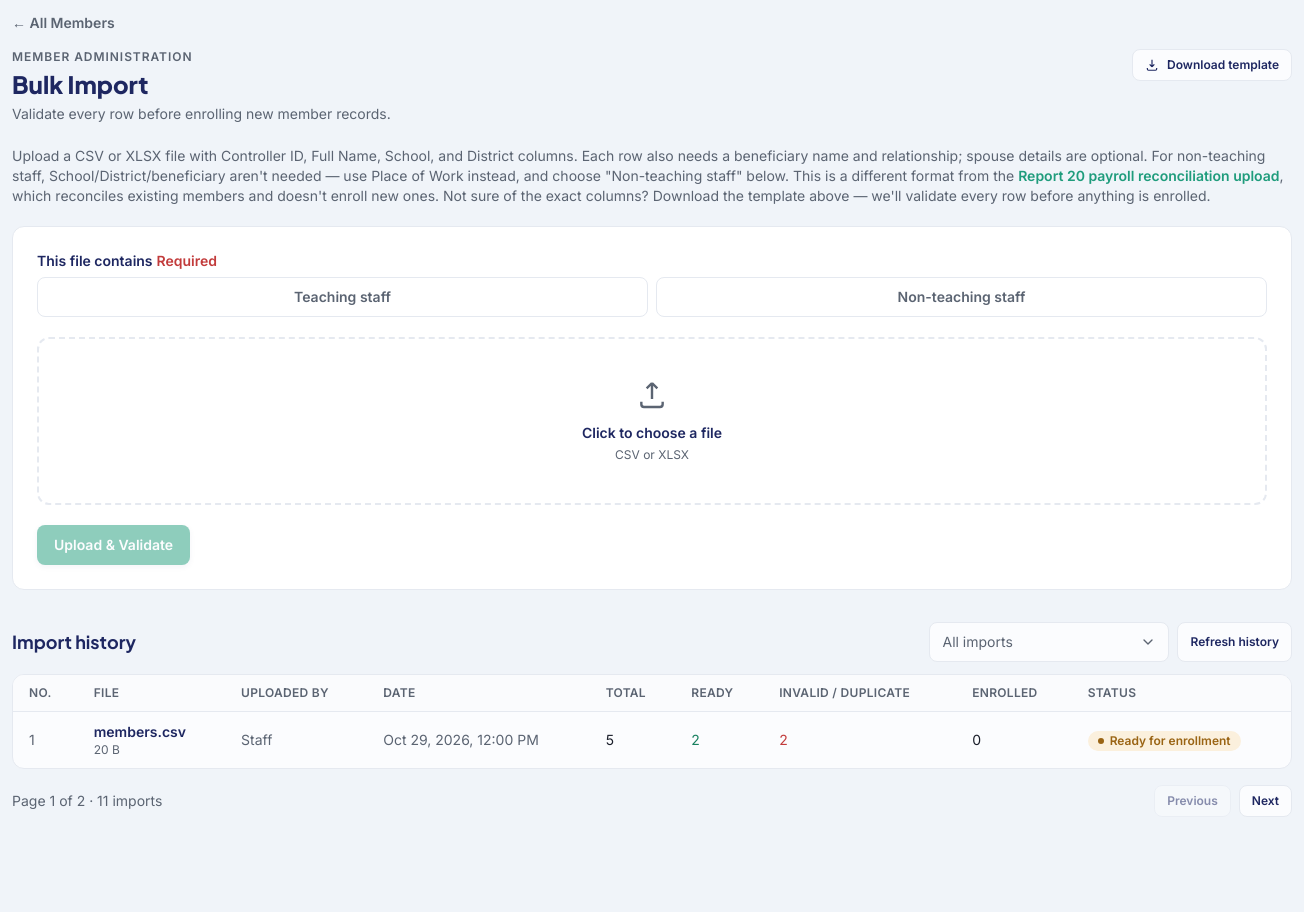
it: paginates history on the server and numbers rows across pages
Check: the text "Page 1 of 2 · 11 imports" is shown, box [12, 791, 162, 811]
Click the button "Next": (1265, 801) [1239, 785, 1292, 817]
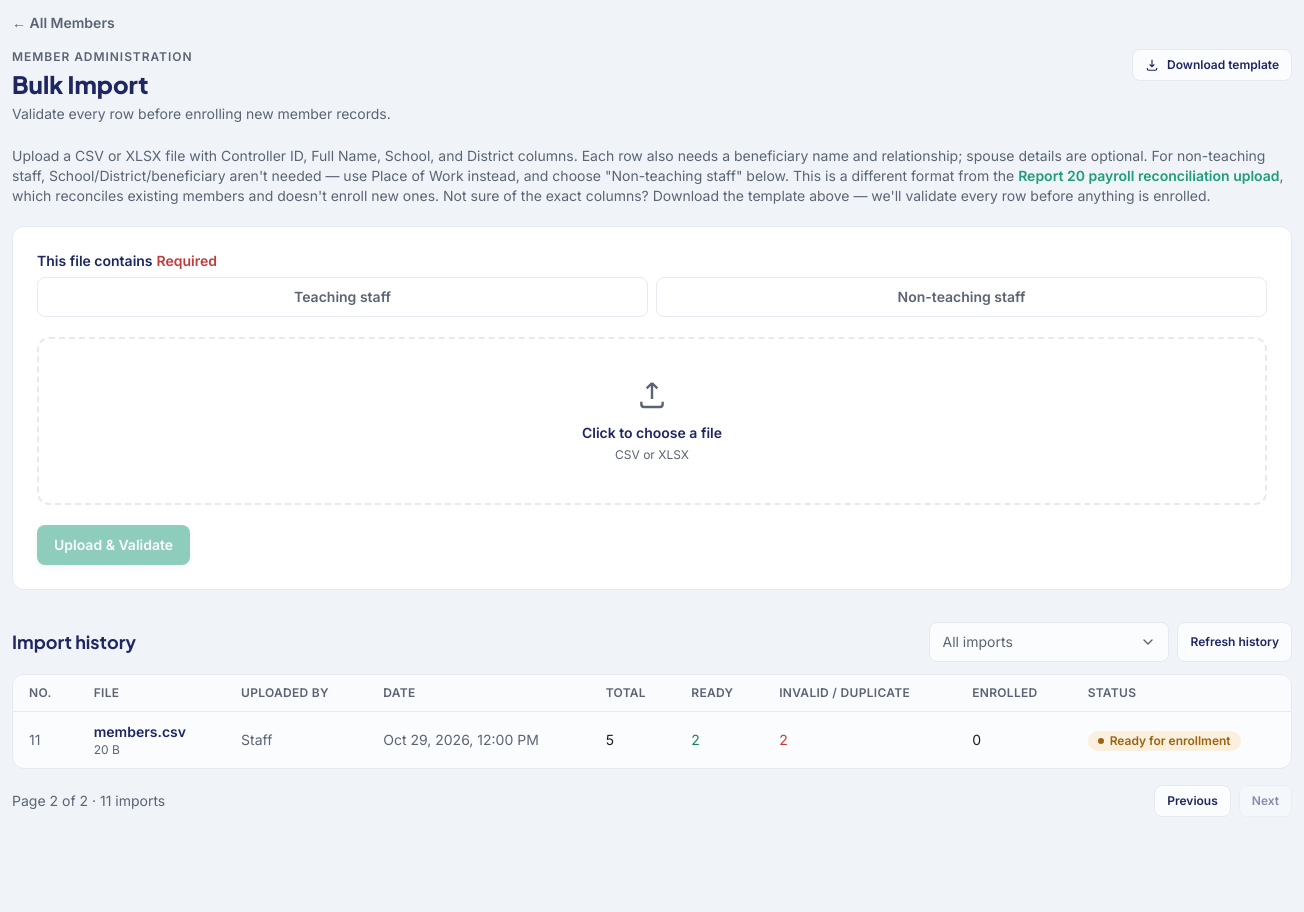
Check: the text "Page 2 of 2 · 11 imports" is shown, box [12, 791, 165, 811]
Check: the cell "11" is shown, box [13, 711, 78, 768]
